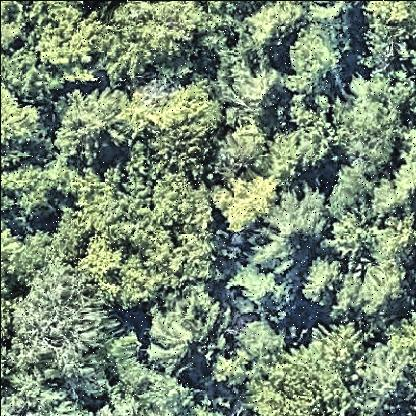tree-top: (9, 273, 115, 383), (245, 336, 384, 416), (309, 222, 416, 323), (103, 1, 203, 80), (333, 79, 405, 175), (51, 82, 129, 166), (150, 292, 227, 363), (149, 80, 226, 148), (265, 186, 332, 264), (33, 3, 104, 75), (145, 174, 220, 240), (65, 167, 132, 237), (102, 371, 201, 416), (216, 59, 285, 121), (278, 104, 337, 176), (283, 25, 349, 89), (212, 177, 285, 232), (355, 342, 409, 414), (227, 266, 297, 320), (361, 5, 416, 72), (2, 91, 50, 163), (217, 121, 273, 177), (3, 161, 57, 219), (296, 252, 349, 311), (3, 52, 56, 107), (77, 237, 128, 290), (244, 3, 299, 50), (113, 255, 159, 311), (389, 303, 416, 384), (10, 393, 101, 416), (362, 1, 416, 37), (1, 1, 26, 59), (1, 218, 21, 286), (397, 115, 416, 179), (184, 395, 241, 416)
